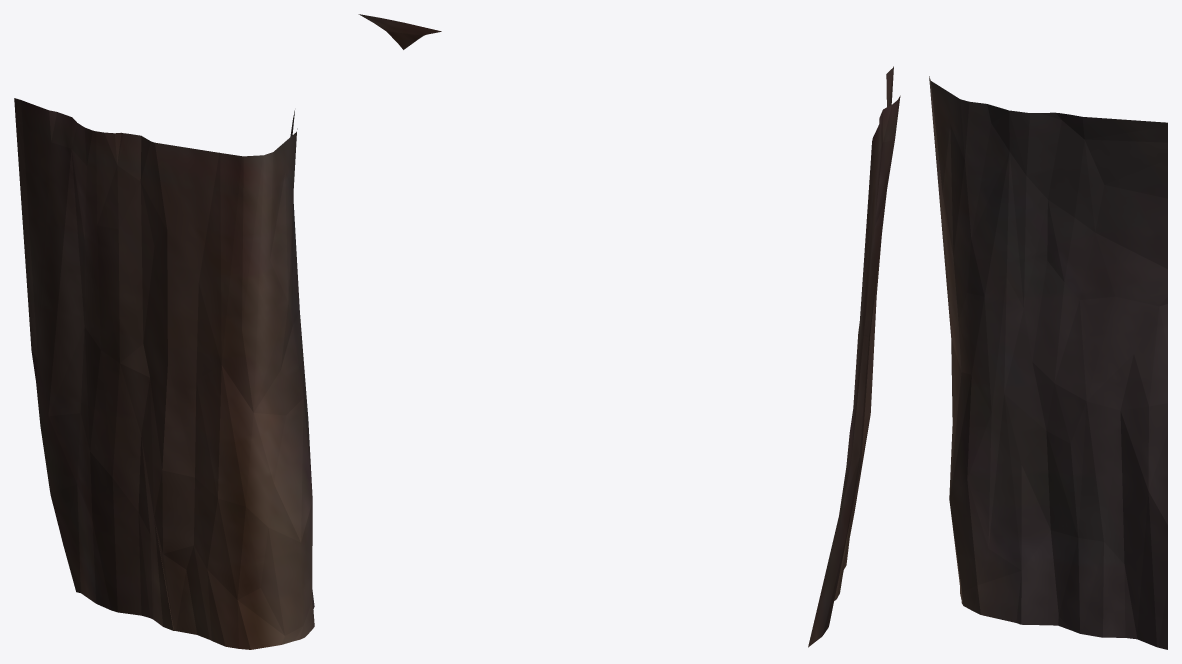
3 renders of one model, left to right at view 1: azimuth 30°, elevation 25°; view 2: azimuth 150°, elevation 25°; view 3: azimuth 270°, elevation 25°, orthographic. The views are drawn at different scales.
Size of the model in its own units: 34.28 by 42.87 by 18.48.
1 material, 1 textured.
